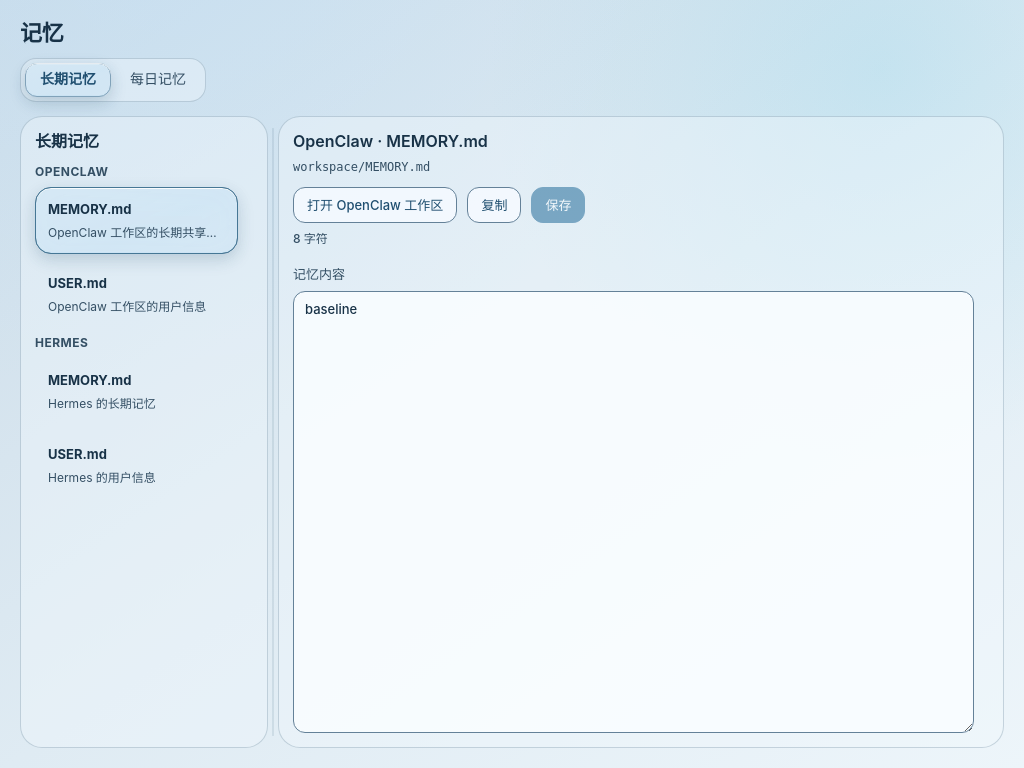
Test: MemoryPage native business management › retains the prior baseline and warns when the post-write refresh fails
Type " dirty" into the text box labelled "记忆内容".
click(634, 512); type(" dirty")  # box [293,291,974,733]
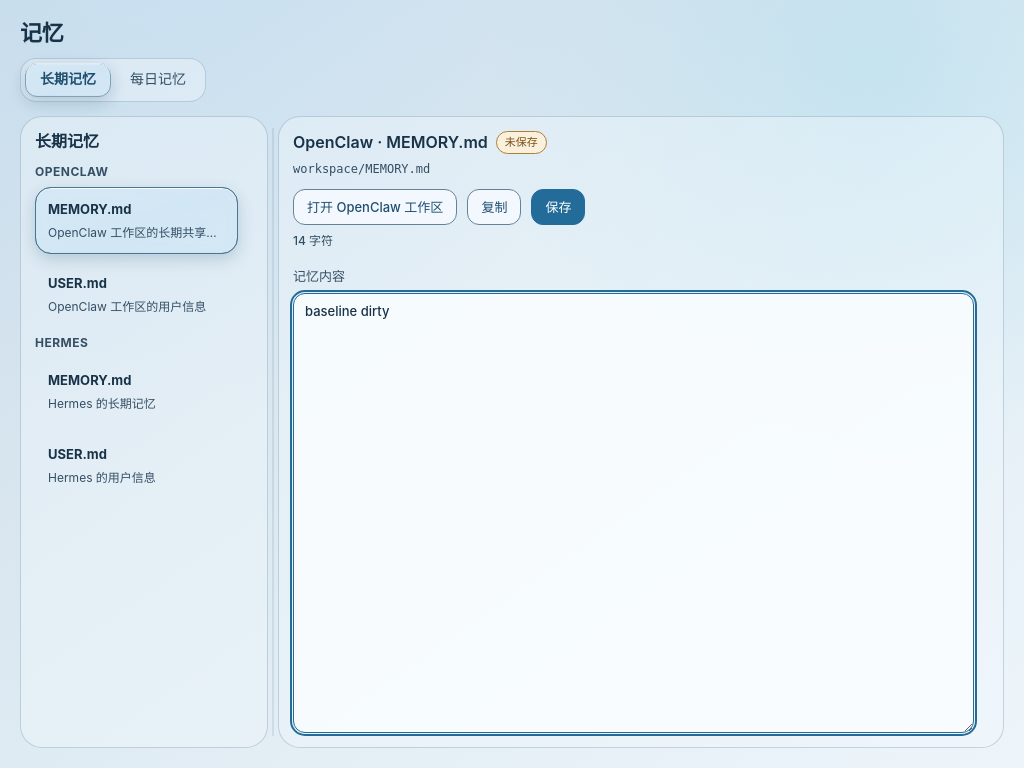
Click the button "保存".
click(558, 207)  # box [531,189,585,225]
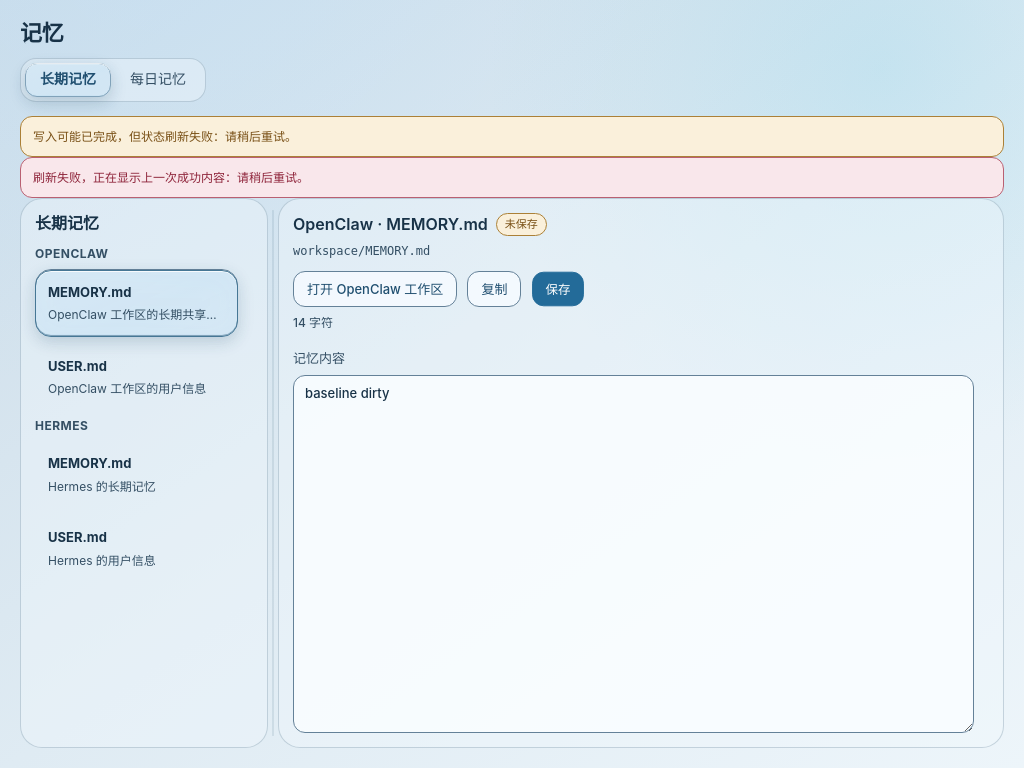
Now the text box labelled "记忆内容" holds "baseline dirty", box [293,375,974,733]
Now the text "未保存" is shown, box [496,213,547,236]
Now the text "写入可能已完成，但状态刷新失败：请稍后重试。" is shown, box [20,116,1004,157]
